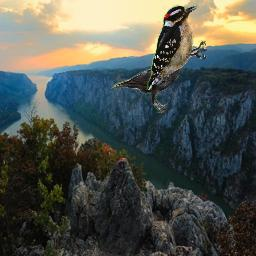Crow: (110, 55, 184, 113)
Woodpecker: (147, 5, 207, 90)
